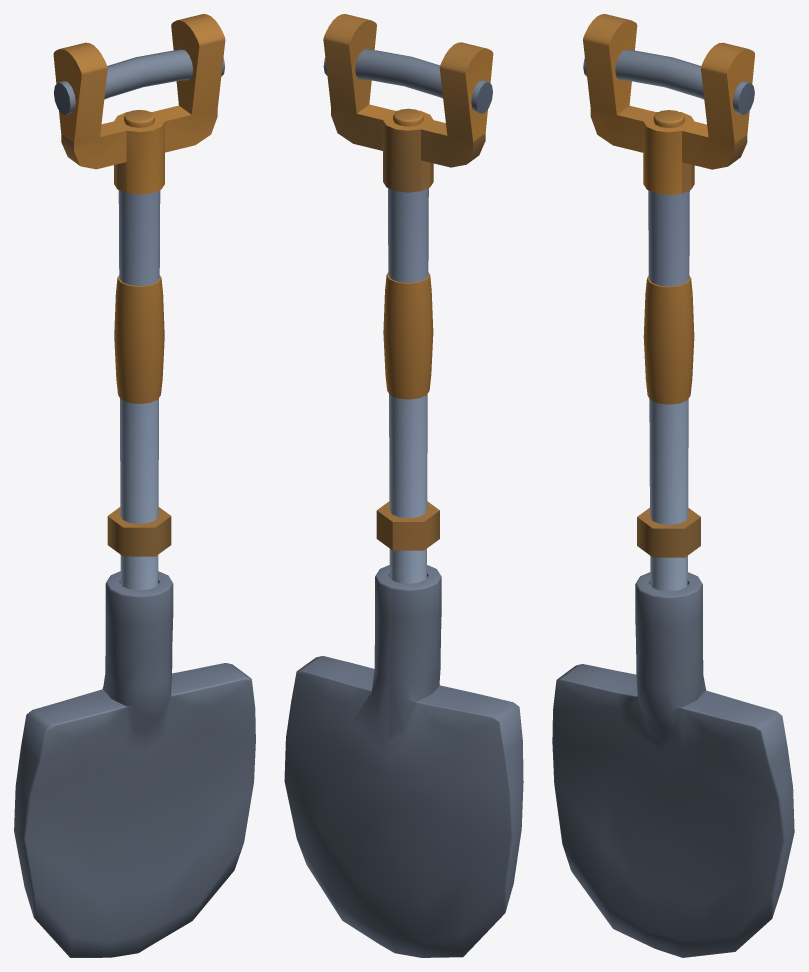
File: 5shovel.fbx
3 renders of one model, left to right at view 1: azimuth 30°, elevation 25°; view 2: azimuth 150°, elevation 25°; view 3: azimuth 330°, elevation 25°, orthographic.
Parts seen in each view (by area): view 1: Shovel_Low; view 2: Shovel_Low; view 3: Shovel_Low.
Part boxes in pixels (x1=…): Shovel_Low: x1=14, y1=14, x2=255, y2=957; Shovel_Low: x1=284, y1=14, x2=523, y2=957; Shovel_Low: x1=552, y1=14, x2=794, y2=957.
Bounding box in the file's own units: 0.2002 × 0.7671 × 0.0588.
